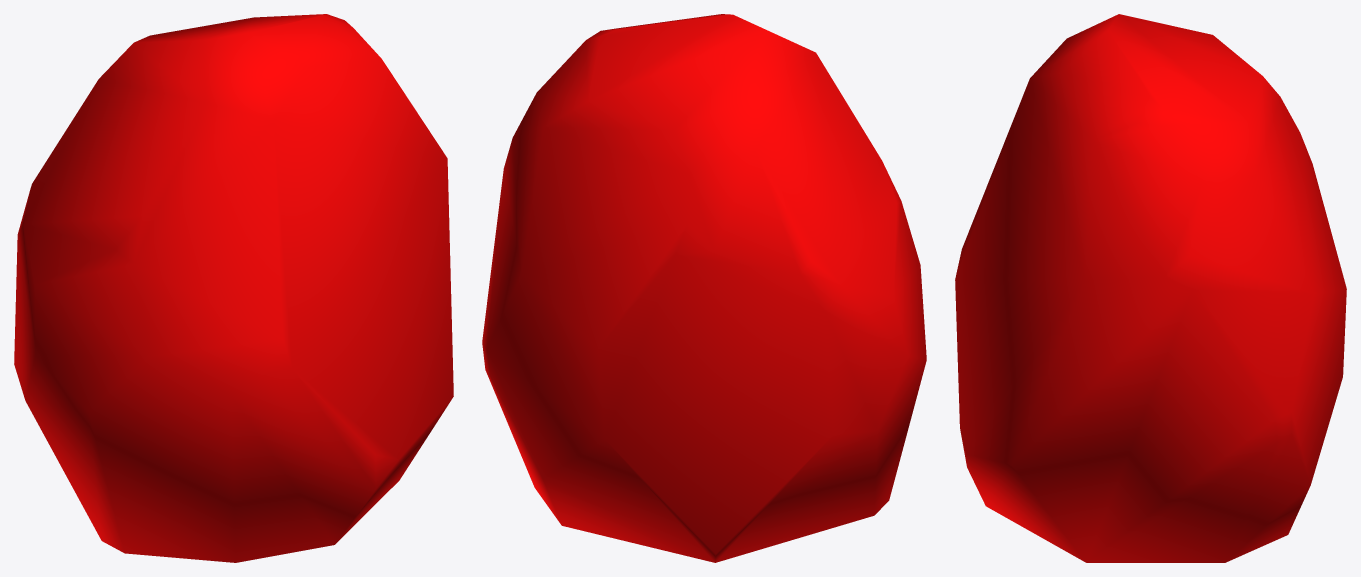
Rendered from Rocher5_LowPoly.fbx.
The picture shows the model from 3 angles, left to right: view 1: azimuth 30°, elevation 25°; view 2: azimuth 150°, elevation 25°; view 3: azimuth 270°, elevation 25°; orthographic projection.
Visible parts, largest first — view 1: Rocher5_LowPoly; view 2: Rocher5_LowPoly; view 3: Rocher5_LowPoly.
Part boxes in pixels (bbox=[...]): Rocher5_LowPoly: bbox=[14, 14, 453, 562]; Rocher5_LowPoly: bbox=[482, 14, 926, 562]; Rocher5_LowPoly: bbox=[955, 14, 1346, 562].
Size of the model in its own units: 117 by 137 by 105.
